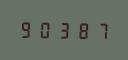eight: (72, 20, 89, 40)
nine: (18, 19, 35, 39)
seven: (90, 20, 107, 40)
three: (54, 19, 71, 40)
zero: (36, 19, 53, 39)
